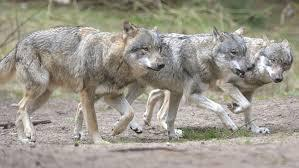Wolf: (0, 21, 163, 142), (125, 28, 254, 136), (232, 37, 292, 100)
